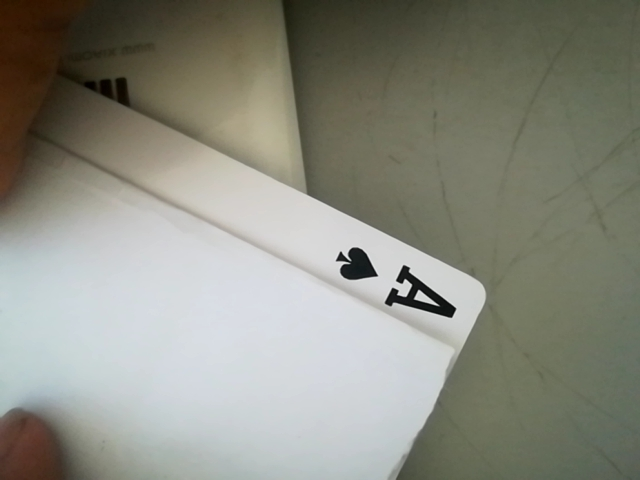ht a: (321, 236, 478, 335)
